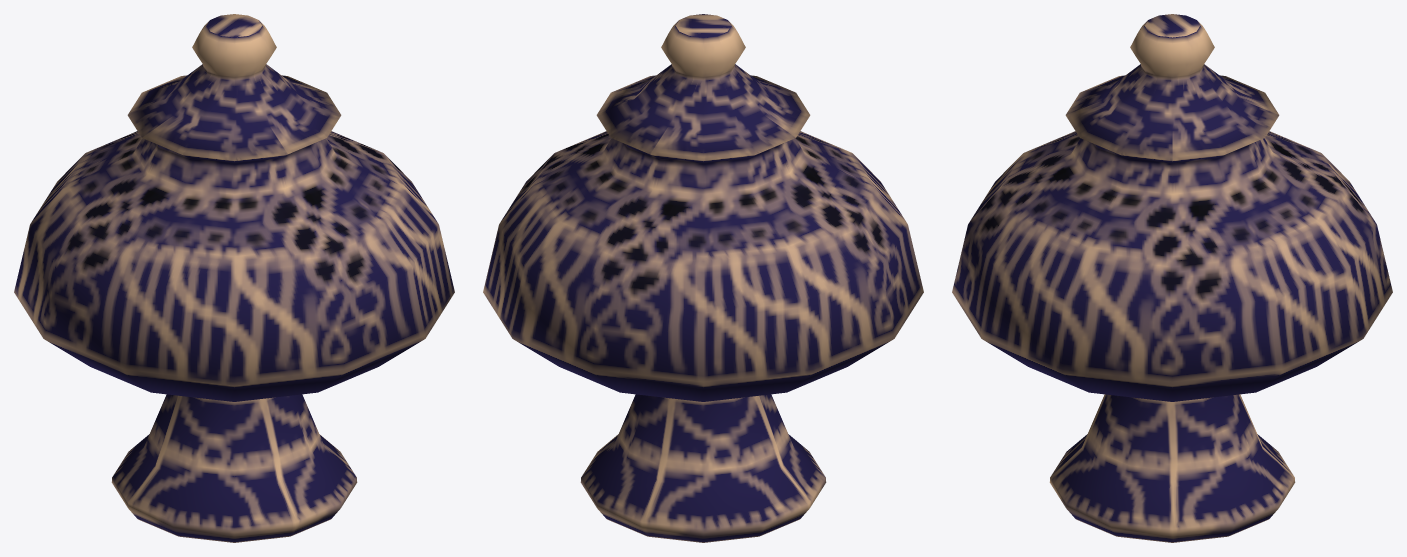
Rendered from incense.glb.
3 views of the same model, side by side, from view 1: azimuth 30°, elevation 25°; view 2: azimuth 150°, elevation 25°; view 3: azimuth 270°, elevation 25° (orthographic).
Parts seen in each view (by area): view 1: incense-kine; view 2: incense-kine; view 3: incense-kine.
Part boxes in pixels (box(x1,y1,x2,y2)): incense-kine: box(14, 14, 454, 542); incense-kine: box(483, 14, 923, 542); incense-kine: box(952, 14, 1392, 542).
Bounding box in the file's own units: 0.2965 × 0.3487 × 0.2965.
1 material, 1 textured.
